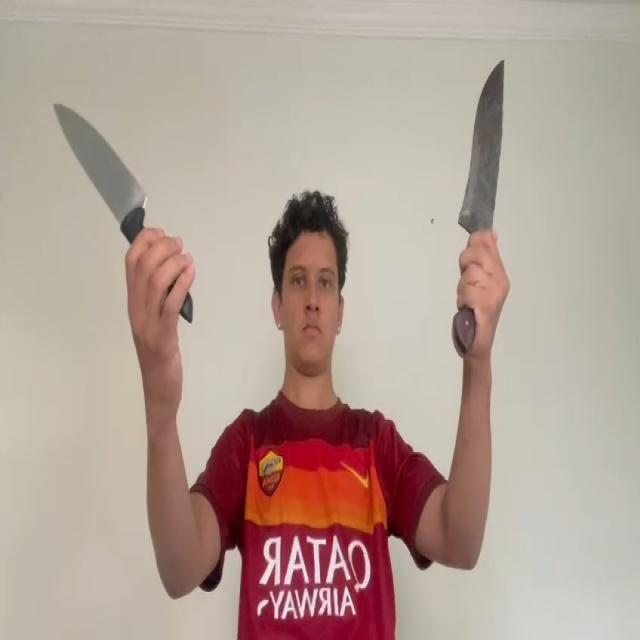knife: (54, 100, 148, 214), (461, 55, 506, 222)
